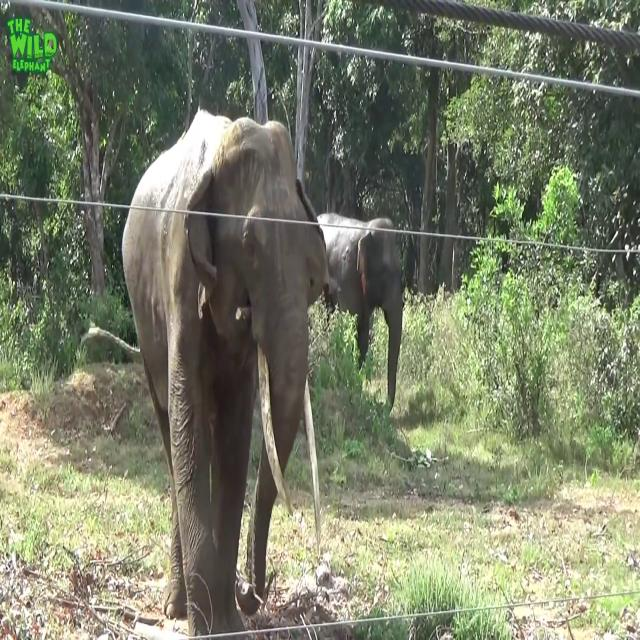Elephant: (121, 108, 332, 637), (316, 210, 404, 412)
